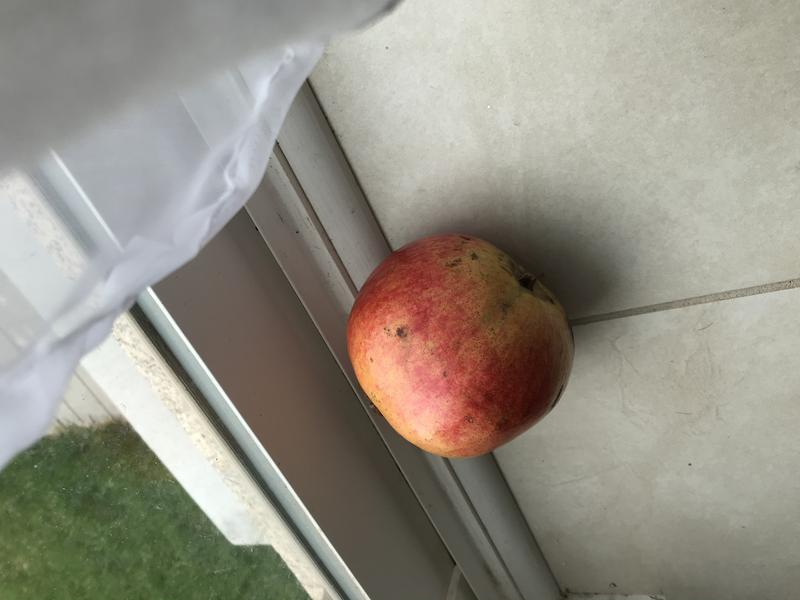pomegranate: (339, 222, 585, 465)
